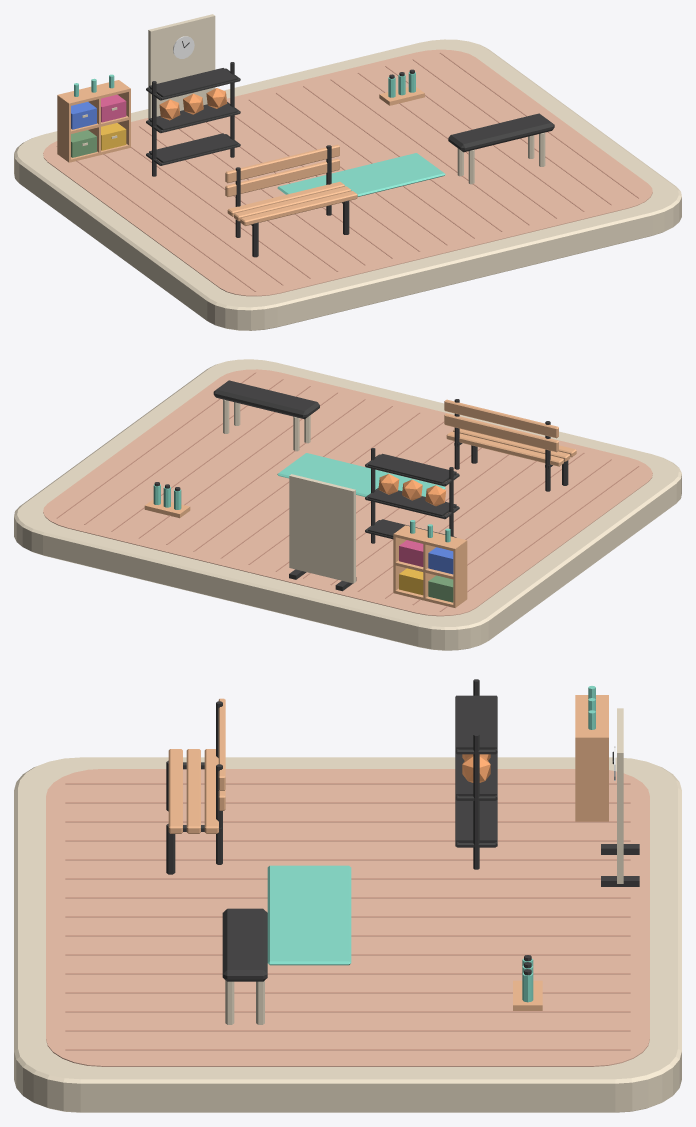
The model's file is room.fbx.
3 renders of one model, top to bottom at view 1: azimuth 30°, elevation 25°; view 2: azimuth 150°, elevation 25°; view 3: azimuth 270°, elevation 25°, orthographic. The views are drawn at different scales.
Visible parts, largest first — view 1: COM-02 Floor Surface, COM-01 Rounded Base Direct, Panel, Exercise mat, Cushion, Back slat.001, Back slat, Ball shelf, Ball shelf.002, Seat slat, Ball shelf.001, Cubbies shelf.002 (+7 smaller); view 2: COM-02 Floor Surface, COM-01 Rounded Base Direct, Panel, Exercise mat, Cushion, Back slat, Back slat.001, Ball shelf.002, Seat slat.002, Ball shelf.001, Cubbies divider, Cubbies shelf.002 (+5 smaller); view 3: COM-02 Floor Surface, COM-01 Rounded Base Direct, Exercise mat, Cushion, Cubbies divider.002, Ball shelf.002, Ball shelf, Seat slat, Seat slat.001, Panel, Cubbies shelf.002, Plank seam.013 (+19 smaller).
Part boxes in pixels (x1,y1,x2,y2): COM-02 Floor Surface: (43, 49, 652, 296); COM-01 Rounded Base Direct: (14, 39, 681, 330); Panel: (148, 14, 215, 119); Exercise mat: (277, 153, 445, 196); Cushion: (448, 113, 554, 152); Back slat.001: (225, 144, 339, 183); Back slat: (225, 158, 339, 196); Ball shelf: (149, 133, 237, 163); Ball shelf.002: (149, 68, 237, 97); Seat slat: (240, 191, 357, 225); Ball shelf.001: (149, 103, 237, 130); Cubbies shelf.002: (57, 80, 130, 105); COM-02 Floor Surface: (43, 369, 652, 616); COM-01 Rounded Base Direct: (14, 359, 681, 650); Panel: (289, 474, 355, 583); Exercise mat: (277, 453, 445, 496); Cushion: (213, 380, 319, 419); Back slat: (444, 413, 558, 452); Back slat.001: (444, 399, 558, 438); Ball shelf.002: (368, 453, 456, 483); Seat slat.002: (446, 431, 563, 466); Ball shelf.001: (368, 489, 456, 516); Cubbies divider: (453, 541, 467, 607); Cubbies shelf.002: (393, 525, 466, 551); COM-02 Floor Surface: (46, 769, 649, 1066); COM-01 Rounded Base Direct: (14, 757, 681, 1112); Exercise mat: (267, 865, 351, 965); Cushion: (222, 908, 267, 981); Cubbies divider.002: (575, 738, 608, 821); Ball shelf.002: (456, 695, 496, 749); Ball shelf: (456, 800, 496, 842); Seat slat: (168, 749, 182, 833); Seat slat.001: (186, 749, 200, 833); Panel: (617, 708, 623, 883); Cubbies shelf.002: (575, 695, 608, 737); Plank seam.013: (65, 1030, 630, 1031).
Size of the model in its own units: 600 by 148 by 520.
